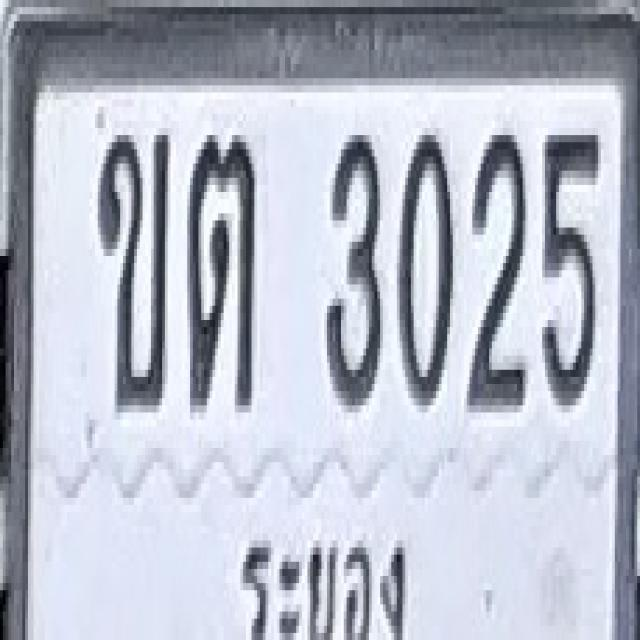0: (397, 128, 453, 405)
2: (468, 128, 527, 405)
3: (326, 128, 382, 405)
5: (541, 128, 599, 405)
A02: (98, 131, 168, 409)
A21: (188, 131, 255, 409)
RYG: (233, 530, 415, 640)
